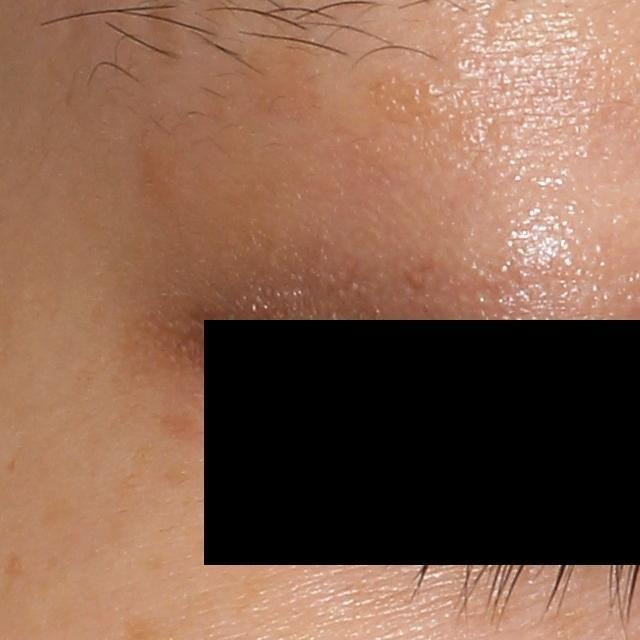melasma: (246, 23, 338, 122), (137, 126, 209, 212), (369, 73, 458, 126), (113, 442, 161, 502), (146, 411, 201, 445), (164, 460, 200, 490)
